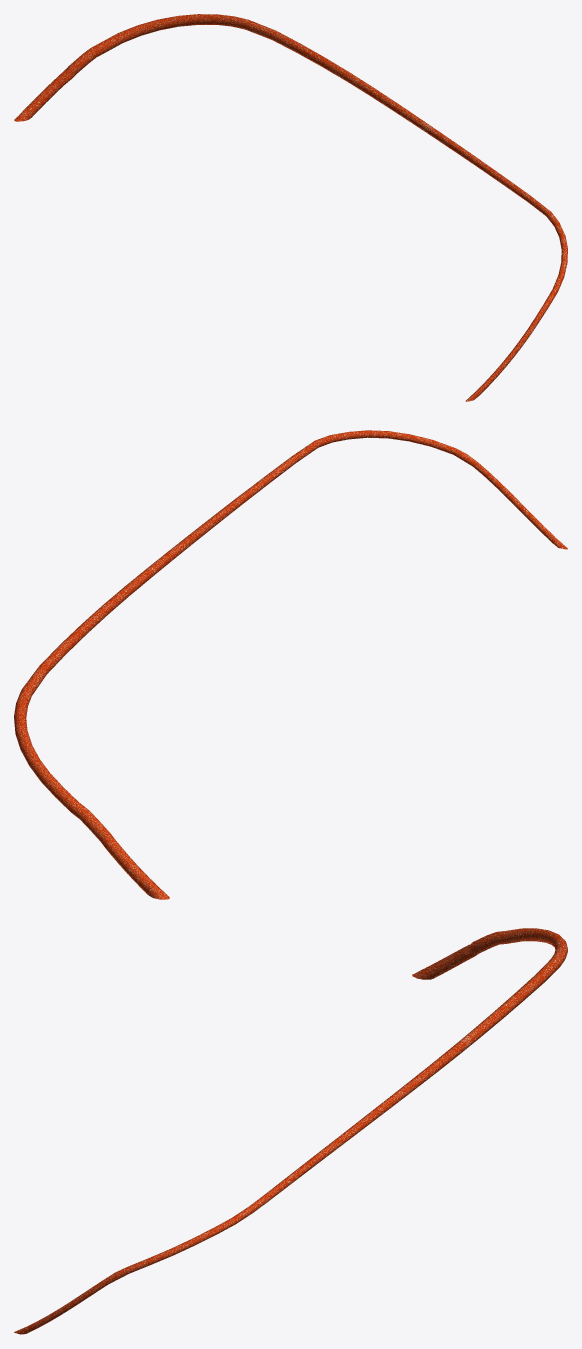
Rendered from original-4.obj.
3 renders of one model, top to bottom at view 1: azimuth 30°, elevation 25°; view 2: azimuth 150°, elevation 25°; view 3: azimuth 330°, elevation 25°, orthographic. The views are drawn at different scales.
Visible parts, largest first — view 1: Obj_000003_1/Obj_000003/mesh3/mesh3-geometry#mesh3-geometry; view 2: Obj_000003_1/Obj_000003/mesh3/mesh3-geometry#mesh3-geometry; view 3: Obj_000003_1/Obj_000003/mesh3/mesh3-geometry#mesh3-geometry.
Boxes of the visible parts, x1=… form: Obj_000003_1/Obj_000003/mesh3/mesh3-geometry#mesh3-geometry: x1=14, y1=14, x2=567, y2=401; Obj_000003_1/Obj_000003/mesh3/mesh3-geometry#mesh3-geometry: x1=14, y1=430, x2=567, y2=899; Obj_000003_1/Obj_000003/mesh3/mesh3-geometry#mesh3-geometry: x1=14, y1=928, x2=567, y2=1334.
Bounding box in the file's own units: 0.2115 × 0.1041 × 0.7095.
